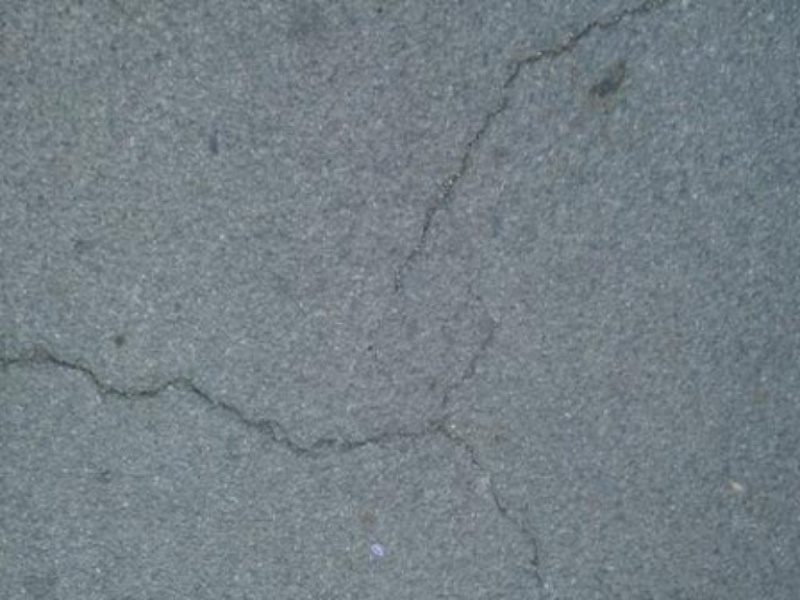crack: (1, 324, 560, 583), (389, 18, 663, 288)
